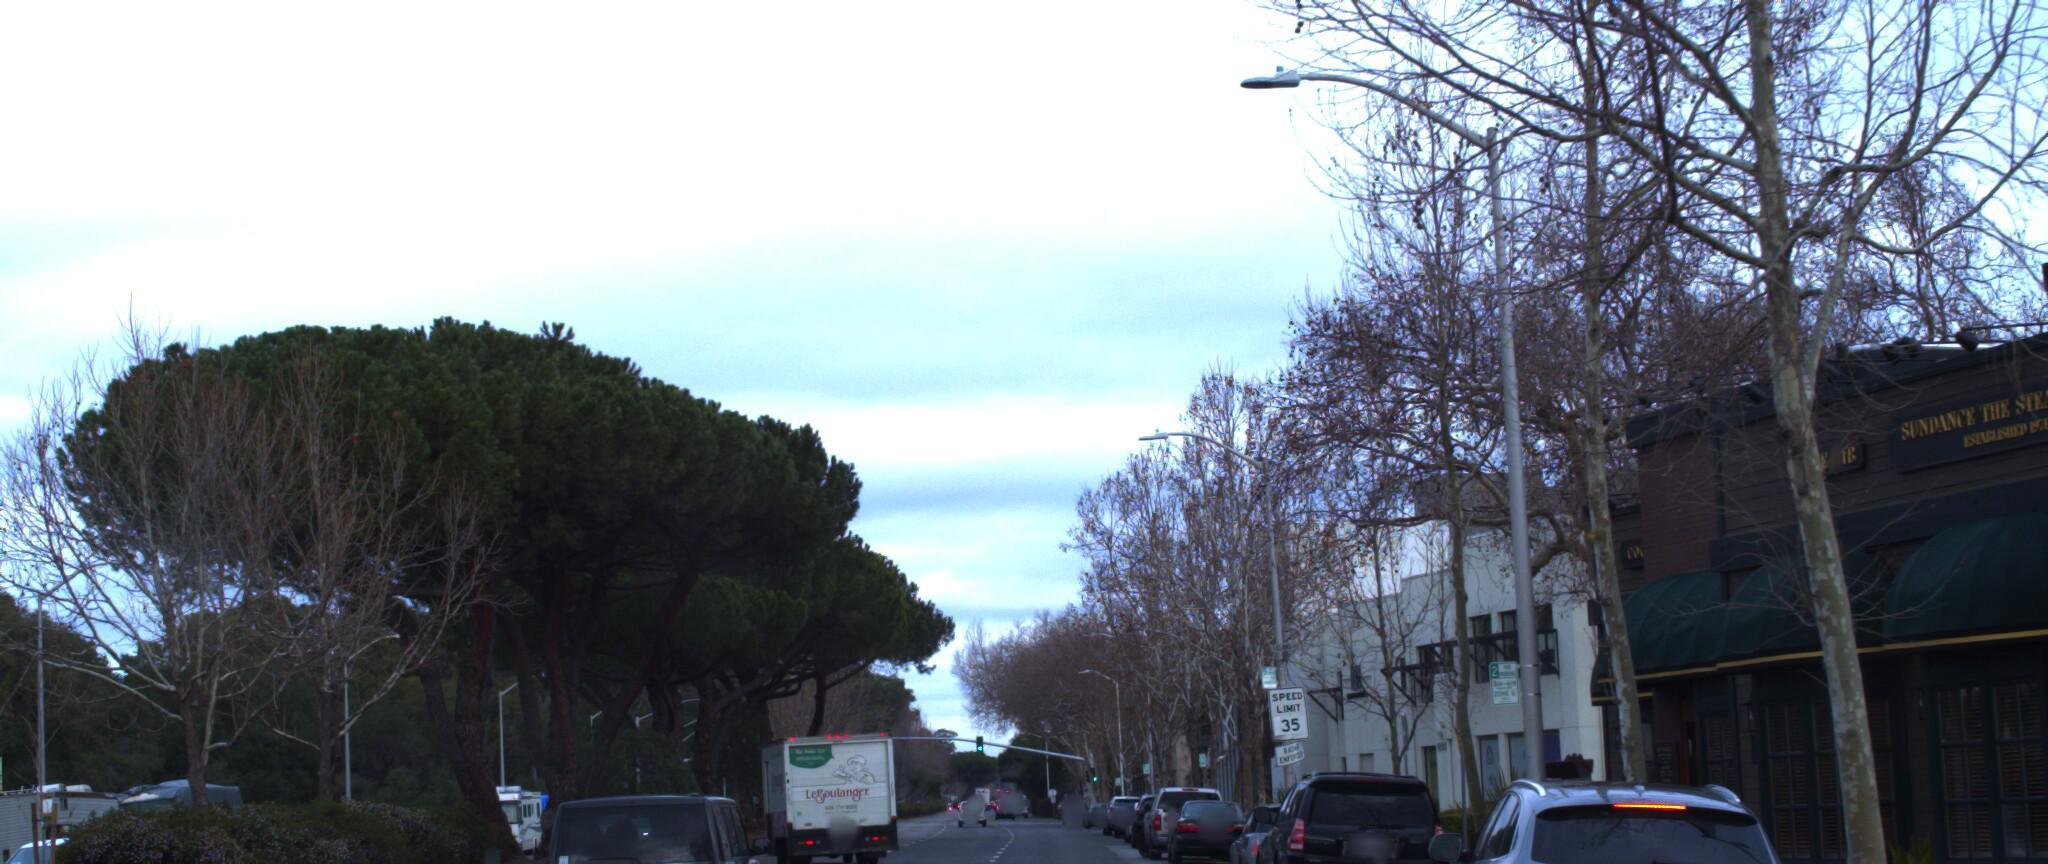car: (1388, 740, 1840, 864), (498, 758, 795, 864), (1245, 743, 1469, 864), (1159, 775, 1259, 850), (0, 821, 148, 864)
other_vehicle: (0, 765, 141, 864), (0, 766, 64, 864)
truck: (759, 711, 900, 850)
